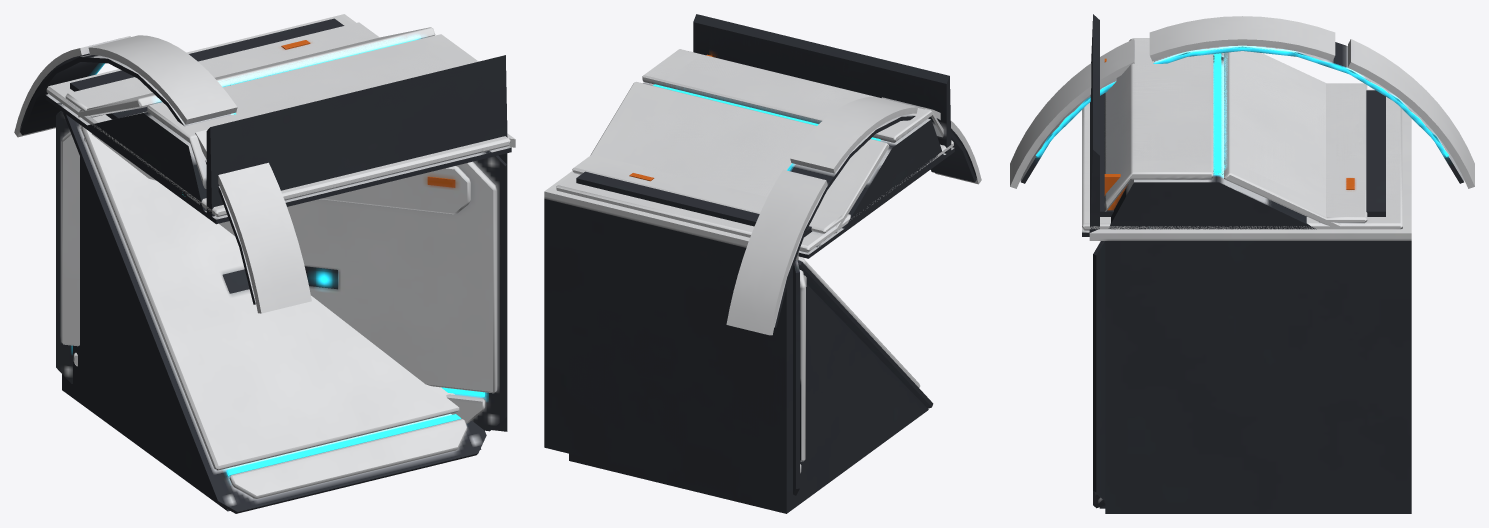
The model's file is R4H_HullKit.fbx.
3 renders of one model, left to right at view 1: azimuth 30°, elevation 25°; view 2: azimuth 150°, elevation 25°; view 3: azimuth 270°, elevation 25°, orthographic. The views are drawn at different scales.
Parts seen in each view (by area): view 1: ramp, cheek, nose_0, nose_1, lip, nose_2, nose_3, plate_08, plate_10, plate_02, gasket, plate_00 (+5 smaller); view 2: cheek, ramp, nose_1, nose_0, nose_2, lip, nose_3, plate_03, gasket, plate_05, plate_04, plate_02 (+3 smaller); view 3: cheek, nose_1, nose_0, lip, nose_3, nose_2, plate_03, gasket, plate_11, plate_00, plate_05, plate_07 (+7 smaller).
Boxes of the visible parts, x1,y1,x2,y2 form: ramp: [62, 112, 486, 513]; cheek: [48, 14, 515, 431]; nose_0: [205, 33, 488, 190]; nose_1: [207, 27, 507, 190]; lip: [14, 35, 311, 313]; nose_2: [78, 34, 487, 218]; nose_3: [80, 27, 506, 216]; plate_08: [122, 38, 491, 206]; plate_10: [57, 37, 490, 224]; plate_02: [61, 38, 327, 215]; gasket: [70, 18, 344, 119]; plate_00: [132, 37, 326, 94]; cheek: [544, 171, 806, 505]; ramp: [569, 212, 933, 513]; nose_1: [590, 14, 915, 209]; nose_0: [614, 18, 906, 209]; nose_2: [651, 19, 951, 232]; lip: [726, 96, 981, 335]; nose_3: [591, 14, 948, 233]; plate_03: [573, 154, 848, 242]; gasket: [576, 171, 812, 237]; plate_05: [556, 173, 753, 237]; plate_04: [579, 191, 753, 237]; plate_02: [632, 155, 944, 251]; cheek: [1089, 110, 1411, 513]; nose_1: [1089, 24, 1342, 232]; nose_0: [1090, 23, 1325, 212]; lip: [1010, 16, 1474, 188]; nose_3: [1091, 15, 1340, 225]; nose_2: [1090, 14, 1325, 202]; plate_03: [1112, 83, 1371, 229]; gasket: [1100, 90, 1385, 216]; plate_11: [1082, 83, 1371, 236]; plate_00: [1326, 105, 1366, 194]; plate_05: [1153, 104, 1402, 229]; plate_07: [1312, 97, 1402, 223].
Size of the model in its own units: 56.5 by 70.4 by 79.69.
